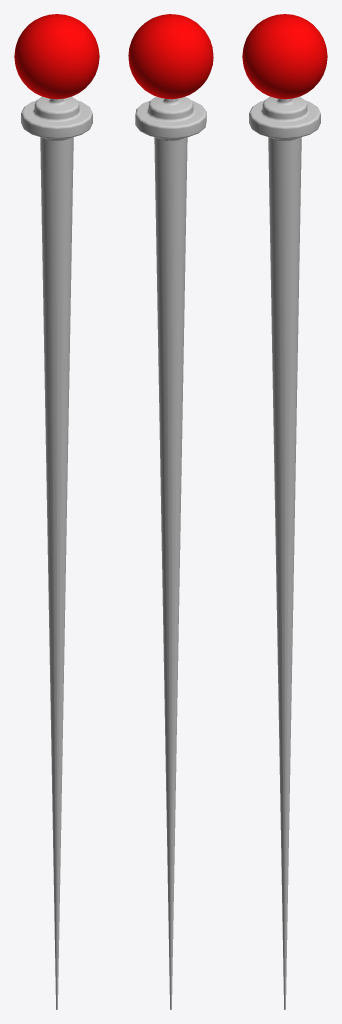
Rendered from red.glb.
The picture shows the model from 3 angles, left to right: view 1: azimuth 90°, elevation 25°; view 2: azimuth 210°, elevation 25°; view 3: azimuth 270°, elevation 25°; orthographic projection.
Parts seen in each view (by area): view 1: Red.001; view 2: Red.001; view 3: Red.001.
Boxes of the visible parts, bbox=[...] form: Red.001: bbox=[14, 14, 99, 1009]; Red.001: bbox=[128, 14, 213, 1009]; Red.001: bbox=[242, 14, 327, 1009].
Bounding box in the file's own units: 0.593 × 7.6 × 0.593.
